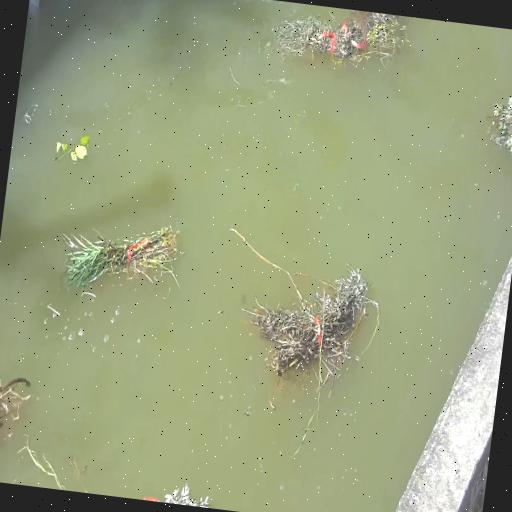twig: (240, 249, 364, 400), (246, 0, 414, 96), (48, 224, 186, 314), (0, 360, 33, 458), (45, 128, 94, 176), (483, 94, 512, 164), (152, 484, 204, 508)
